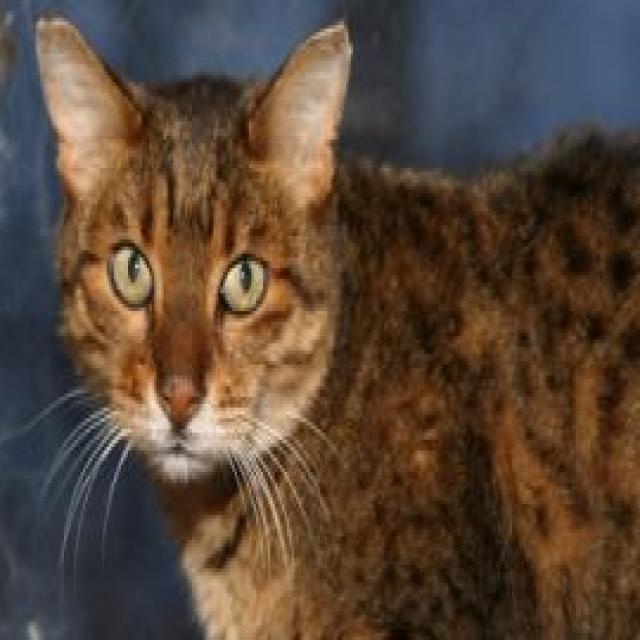Bengal: (31, 3, 640, 640)
